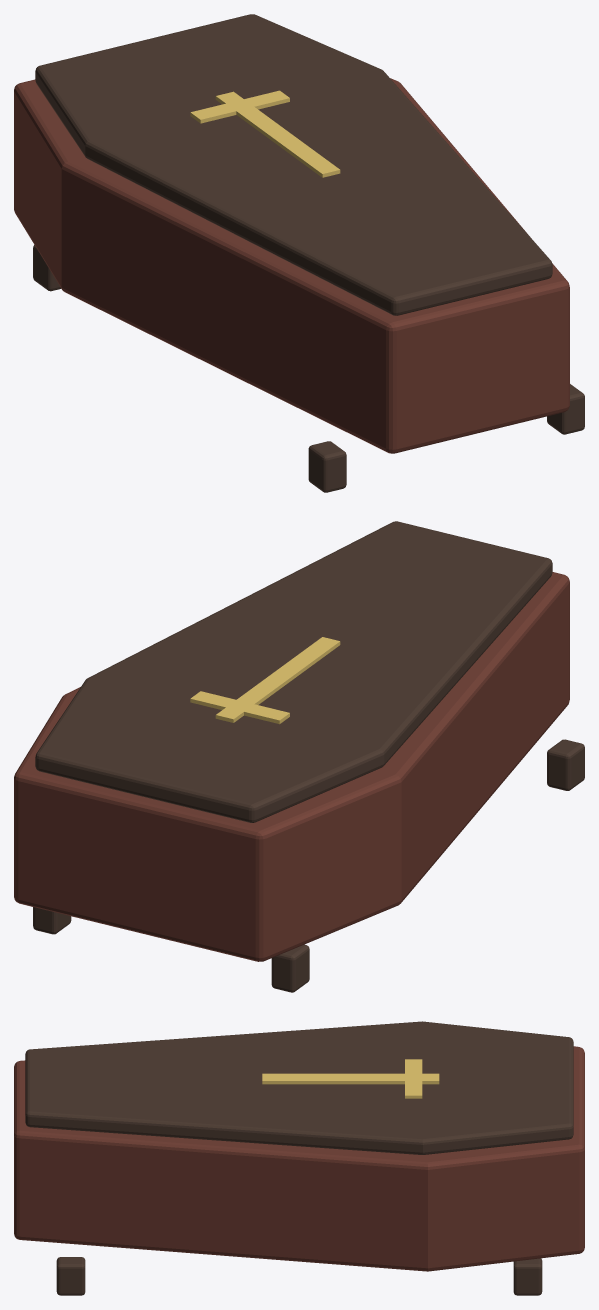
Rendered from coffin_double.glb.
The picture shows the model from 3 angles, top to bottom: view 1: azimuth 30°, elevation 25°; view 2: azimuth 150°, elevation 25°; view 3: azimuth 270°, elevation 25°; orthographic projection. The views are drawn at different scales.
Visible parts, largest first — view 1: GD_coffin_double__m1, GD_coffin_double__m0, GD_coffin_double__m2; view 2: GD_coffin_double__m1, GD_coffin_double__m0, GD_coffin_double__m2; view 3: GD_coffin_double__m0, GD_coffin_double__m1, GD_coffin_double__m2.
Boxes of the visible parts, box(x1,y1,x2,y2) form: GD_coffin_double__m1: box(33, 14, 584, 492); GD_coffin_double__m0: box(14, 78, 569, 453); GD_coffin_double__m2: box(190, 90, 340, 177); GD_coffin_double__m1: box(33, 521, 584, 992); GD_coffin_double__m0: box(14, 572, 569, 961); GD_coffin_double__m2: box(190, 637, 340, 724); GD_coffin_double__m0: box(14, 1046, 584, 1271); GD_coffin_double__m1: box(25, 1021, 573, 1295); GD_coffin_double__m2: box(262, 1059, 439, 1098).
Size of the model in its own units: 1.14 by 0.642 by 2.
